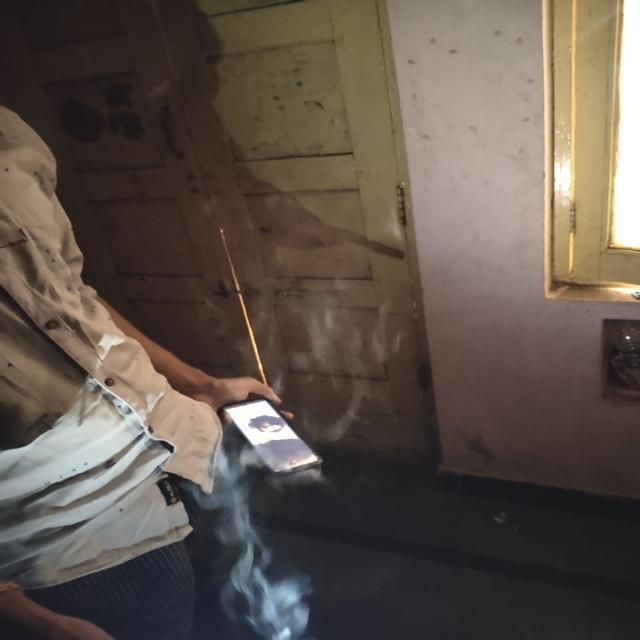fire: (182, 449, 313, 640), (274, 270, 410, 443)
